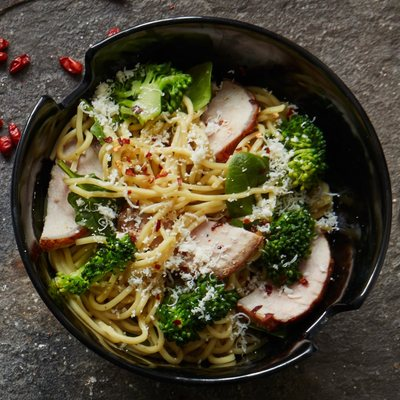curry: (155, 273, 240, 343), (108, 61, 193, 126), (259, 112, 328, 191), (51, 232, 137, 295), (260, 199, 317, 286), (224, 152, 271, 195)
sushi: (10, 10, 397, 395)
